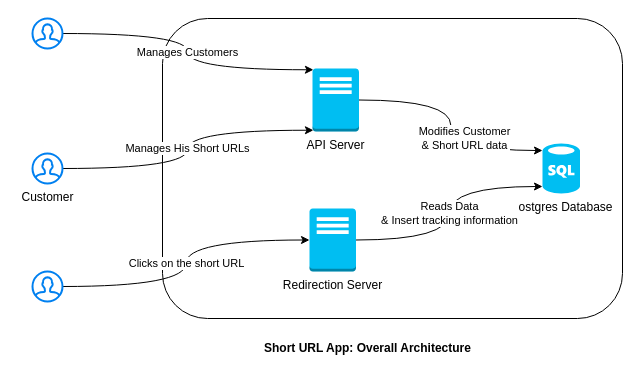
Image size: 640x375. Some labels were removed from this diagram. Each missing label, with the centre of its shape:
"Admin" goes at (47,33).
"Public User" goes at (47,286).
